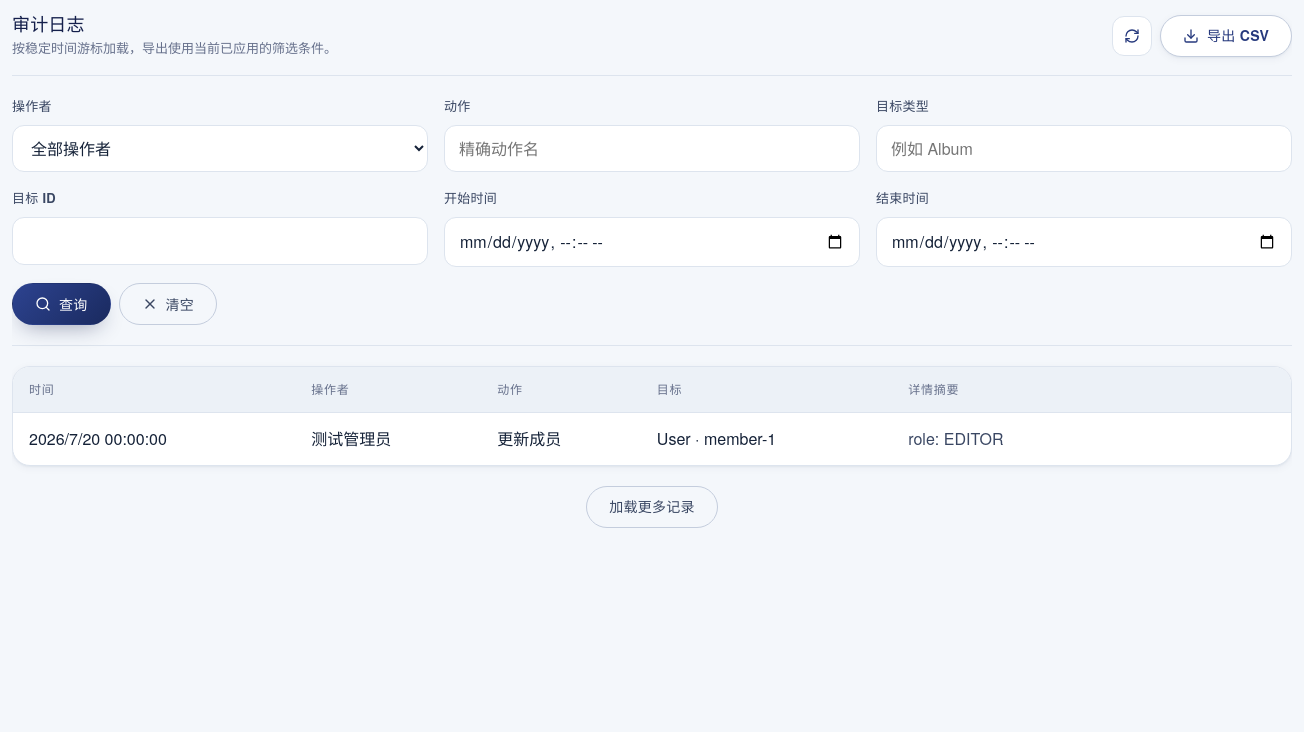
AdminAuditLogs › appends cursor pages with stable deduplication
The image size is (1304, 732).
Step 1. Click the button with class "load-more" → {"x": 652, "y": 507}, box [586,486,718,528]
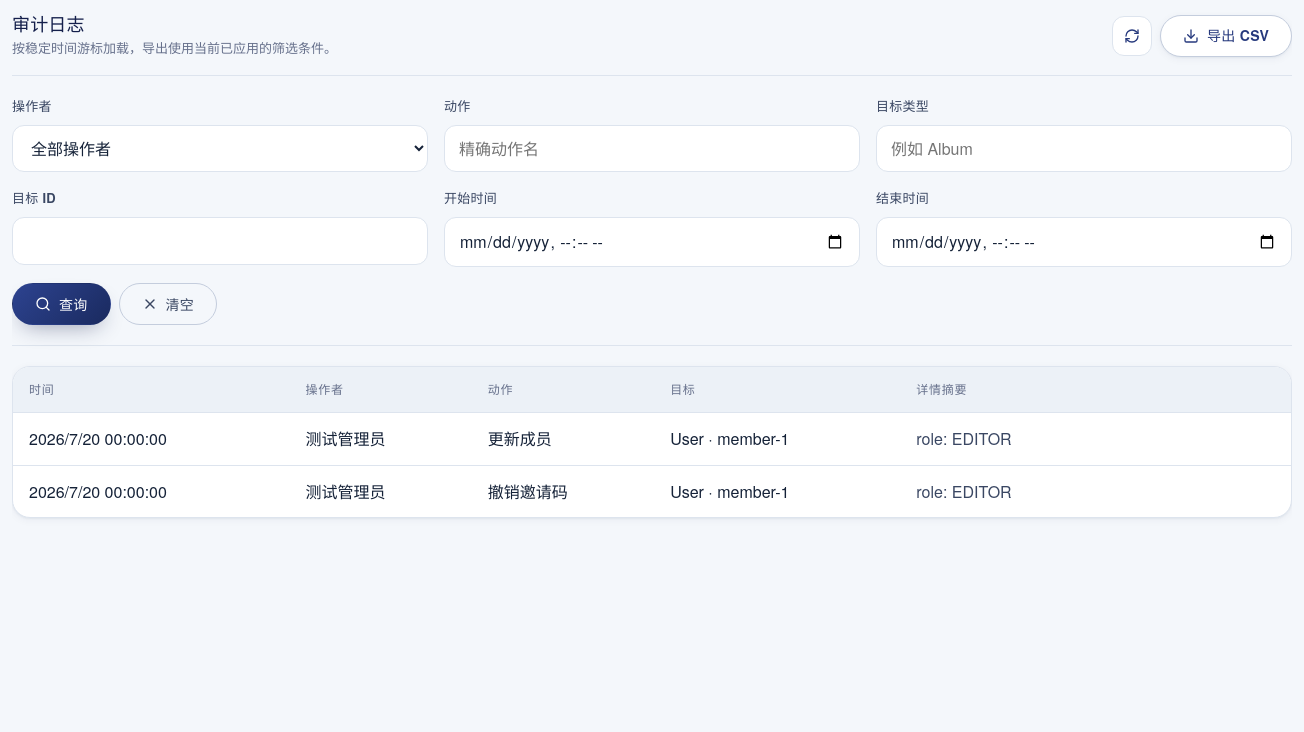
Now the text "撤销邀请码" is shown, box [472,465,654,517]
